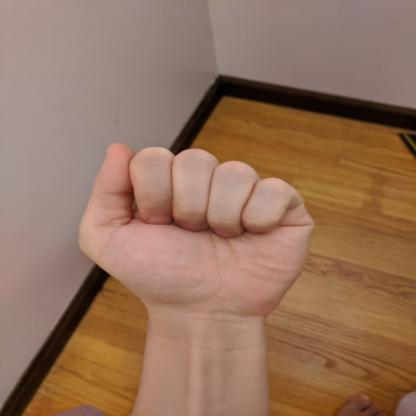A: (74, 140, 320, 323)
